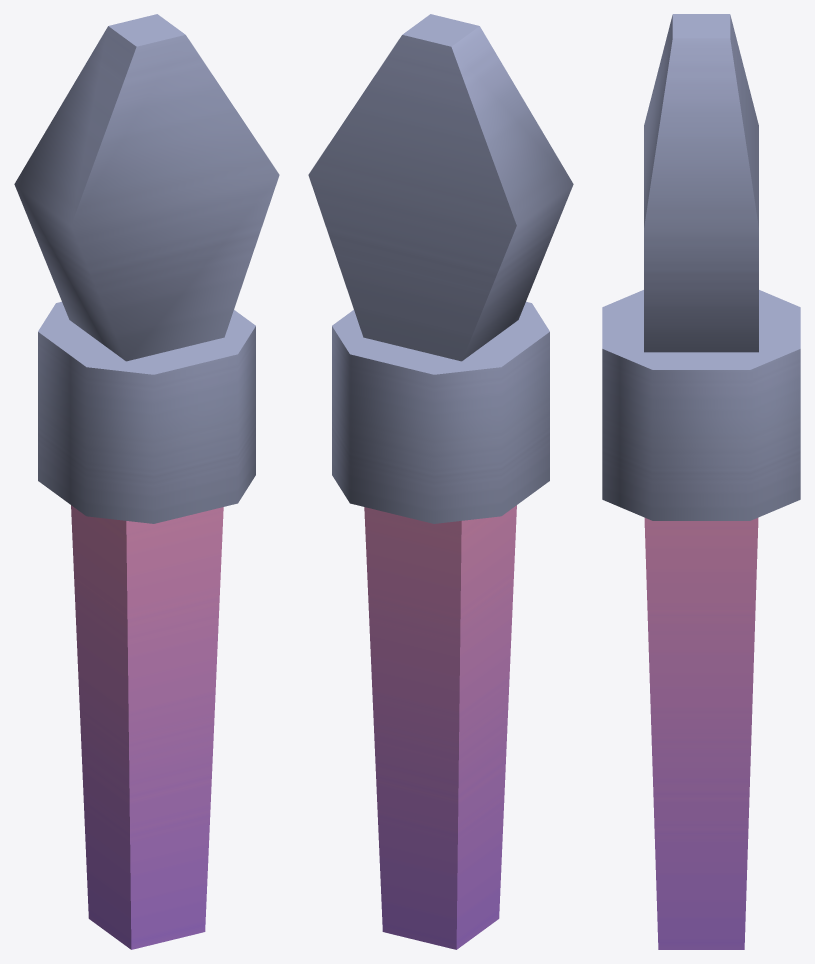
Rendered from weapon-spear.fbx.
3 renders of one model, left to right at view 1: azimuth 30°, elevation 25°; view 2: azimuth 150°, elevation 25°; view 3: azimuth 270°, elevation 25°, orthographic.
Visible parts, largest first — view 1: weapon-spear; view 2: weapon-spear; view 3: weapon-spear.
Boxes of the visible parts, box(x1,y1,x2,y2) form: weapon-spear: box(14, 14, 279, 949); weapon-spear: box(308, 14, 573, 949); weapon-spear: box(602, 14, 800, 949).
Size of the model in its own units: 14.63 by 60 by 11.9.
